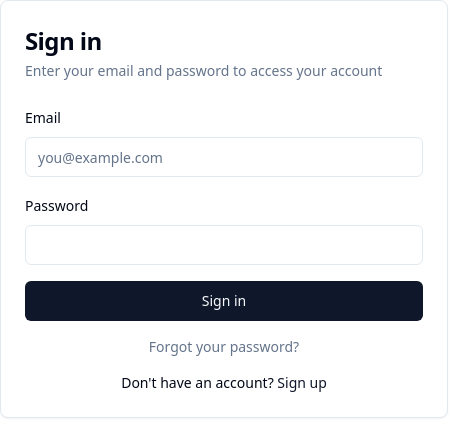
Test: LoginForm › disables form inputs while loading
Type "test@example.com" into the field labelled "Email" at (224, 157), box [25,137,423,177]
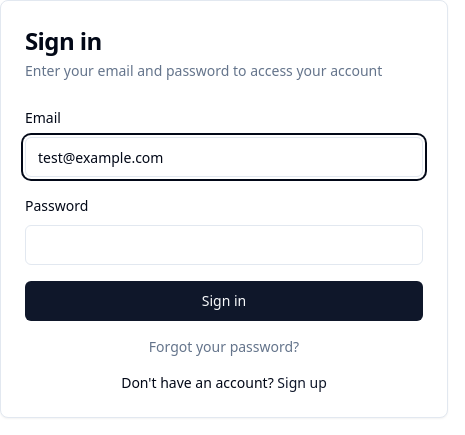
Type "password123" into the password field labelled "Password" at (224, 245), box [25,225,423,265]
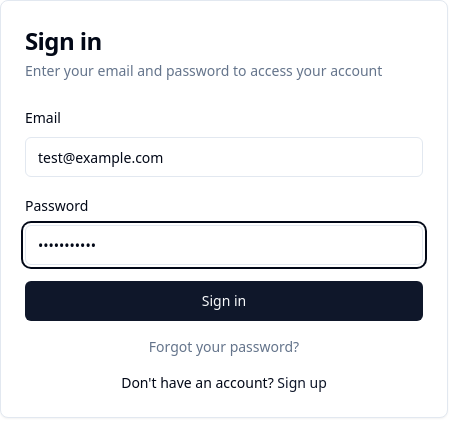
Click the button "Sign in" at (224, 301), box [25,281,423,321]
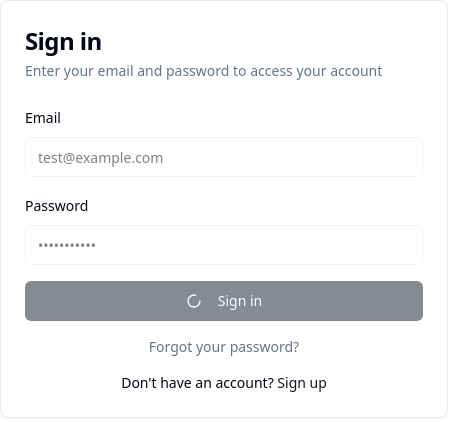
Result: the field labelled "Email" is disabled at [25,137,423,177]
Result: the password field labelled "Password" is disabled at [25,225,423,265]
Result: the button "Sign in" is disabled at [25,281,423,321]
